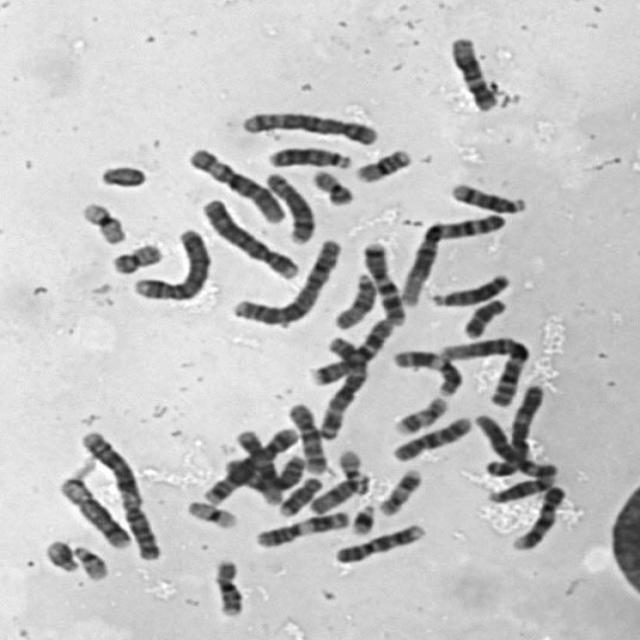A1: (396, 208, 510, 308), (433, 331, 534, 407)
A2: (74, 426, 164, 562), (228, 234, 344, 328)
A3: (480, 380, 546, 478), (312, 333, 368, 440)
B4: (196, 194, 303, 282), (127, 223, 213, 303)
B5: (198, 422, 304, 504), (236, 106, 380, 146)
C10: (386, 412, 475, 463), (283, 398, 329, 476)
C11: (250, 506, 353, 549), (388, 345, 466, 398)
C12: (230, 424, 288, 506), (445, 30, 501, 114)
C6: (182, 142, 287, 225), (471, 411, 561, 479)
C7: (308, 313, 397, 387), (358, 237, 408, 326)
C8: (54, 471, 133, 550), (260, 168, 318, 245)
C9: (329, 519, 428, 566), (507, 482, 568, 551)
D13: (427, 270, 513, 308), (263, 142, 353, 171)
D14: (445, 178, 530, 215), (485, 472, 555, 505)
D15: (329, 269, 379, 331), (306, 473, 371, 515)
E16: (208, 553, 248, 618), (352, 144, 415, 185)
E17: (389, 392, 451, 437), (374, 464, 424, 518)
E18: (458, 293, 511, 340), (274, 472, 325, 518)
F19: (74, 196, 128, 246), (181, 496, 239, 530)
F20: (107, 239, 165, 276), (306, 165, 356, 206)
G21: (40, 534, 82, 574), (347, 499, 378, 536)
G22: (68, 540, 111, 582), (332, 444, 370, 486)
X: (221, 453, 305, 495)
Y: (94, 160, 150, 190)
